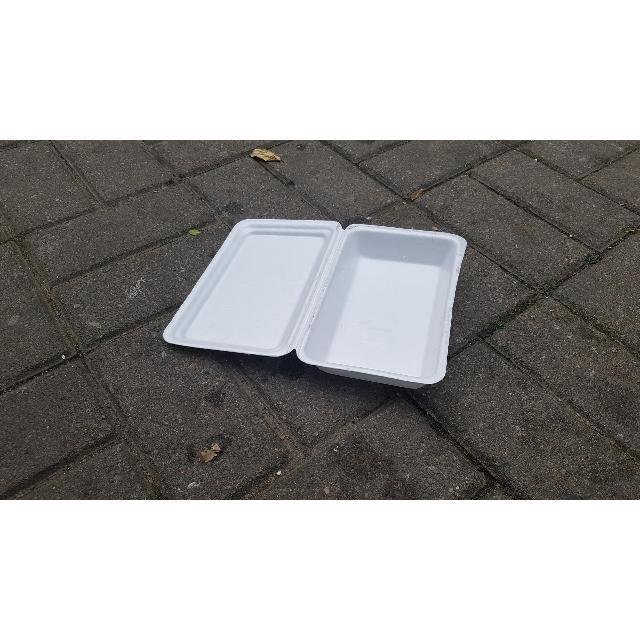Plastico descartable: (162, 220, 466, 390)
